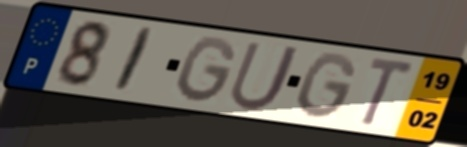8: (55, 19, 115, 90)
G: (294, 51, 360, 122), (174, 35, 240, 106)
I: (109, 25, 158, 95)
T: (357, 54, 419, 129)
U: (225, 39, 304, 114)
